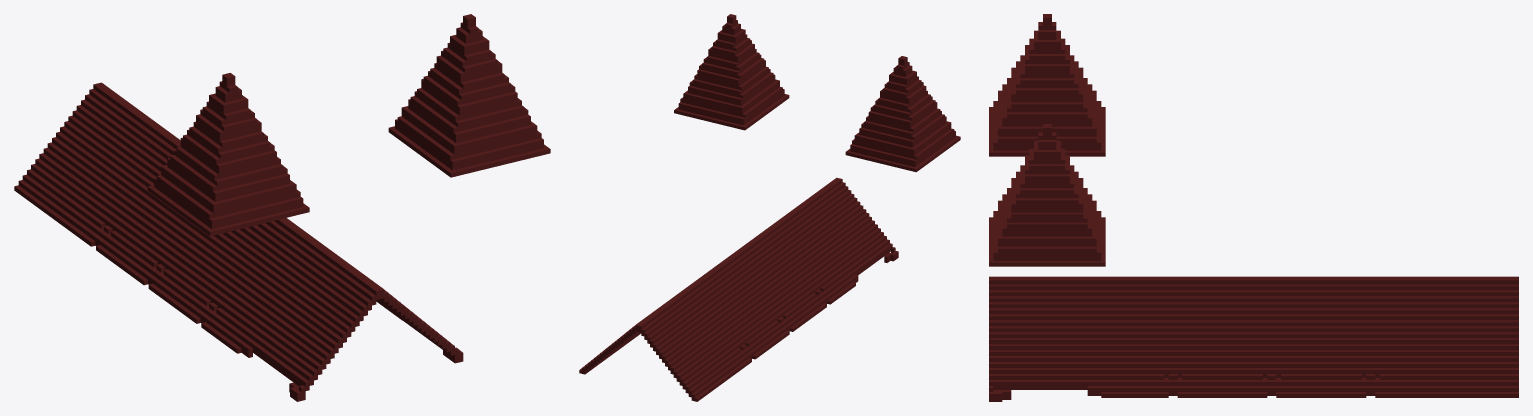
File: church-33-ch_roofred.obj
3 views of the same model, side by side, from view 1: azimuth 30°, elevation 25°; view 2: azimuth 150°, elevation 25°; view 3: azimuth 270°, elevation 25° (orthographic). The views are drawn at different scales.
Parts seen in each view (by area): view 1: ch_roofred; view 2: ch_roofred; view 3: ch_roofred.
Boxes of the visible parts, x1,y1,x2,y2 form: ch_roofred: (14,14,550,401); ch_roofred: (579,14,960,401); ch_roofred: (989,14,1518,401).
Size of the model in its own units: 8.2 by 7.2 by 11.8.
1 material, 1 textured.
